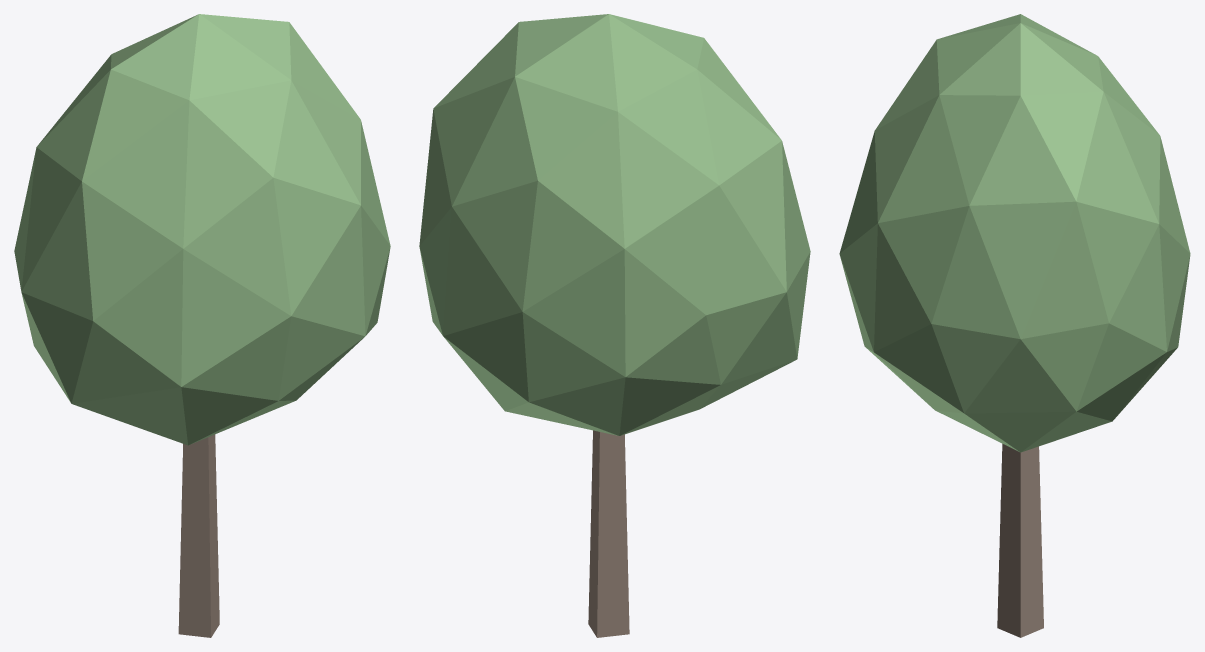
The model's file is tree-broadleaf-d-far.glb.
3 views of the same model, side by side, from view 1: azimuth 30°, elevation 25°; view 2: azimuth 150°, elevation 25°; view 3: azimuth 270°, elevation 25° (orthographic).
Parts seen in each view (by area): view 1: tree-broadleaf-d-far; view 2: tree-broadleaf-d-far; view 3: tree-broadleaf-d-far.
Boxes of the visible parts, x1=… form: tree-broadleaf-d-far: x1=14, y1=14, x2=390, y2=637; tree-broadleaf-d-far: x1=419, y1=14, x2=810, y2=637; tree-broadleaf-d-far: x1=839, y1=14, x2=1190, y2=637.
Size of the model in its own units: 0.6014 by 0.9942 by 0.5228.
